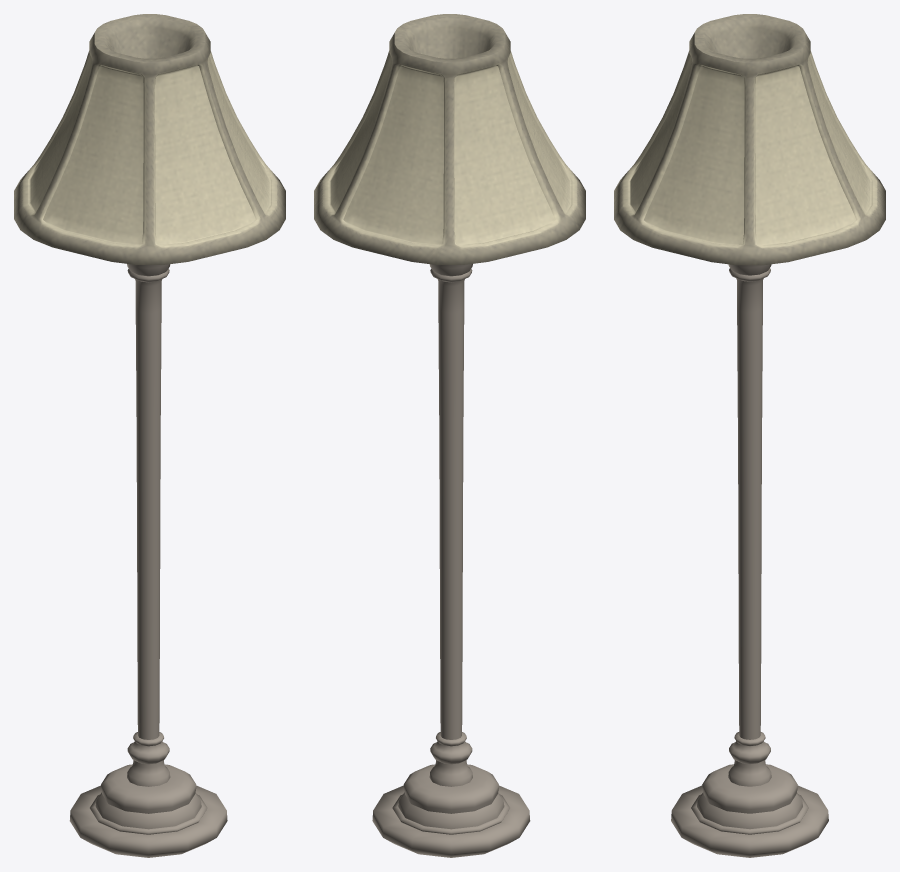
Rendered from light_tall.fbx.
3 views of the same model, side by side, from view 1: azimuth 30°, elevation 25°; view 2: azimuth 150°, elevation 25°; view 3: azimuth 270°, elevation 25° (orthographic).
Visible parts, largest first — view 1: light_tall; view 2: light_tall; view 3: light_tall.
Boxes of the visible parts, x1=… form: light_tall: x1=14, y1=14, x2=285, y2=857; light_tall: x1=314, y1=14, x2=585, y2=857; light_tall: x1=614, y1=14, x2=885, y2=857.
Size of the model in its own units: 71.54 by 220 by 68.39.
